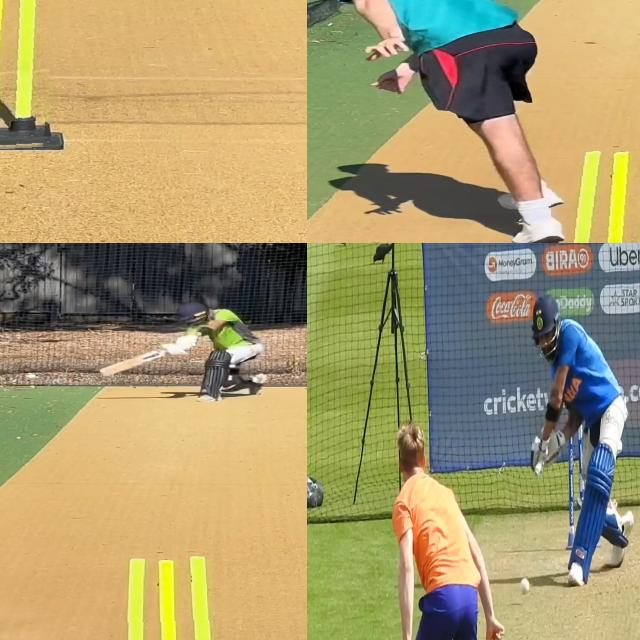Cricket ball: (519, 572, 532, 600)
Stumps: (0, 0, 59, 153), (117, 554, 221, 640), (567, 151, 640, 243)
